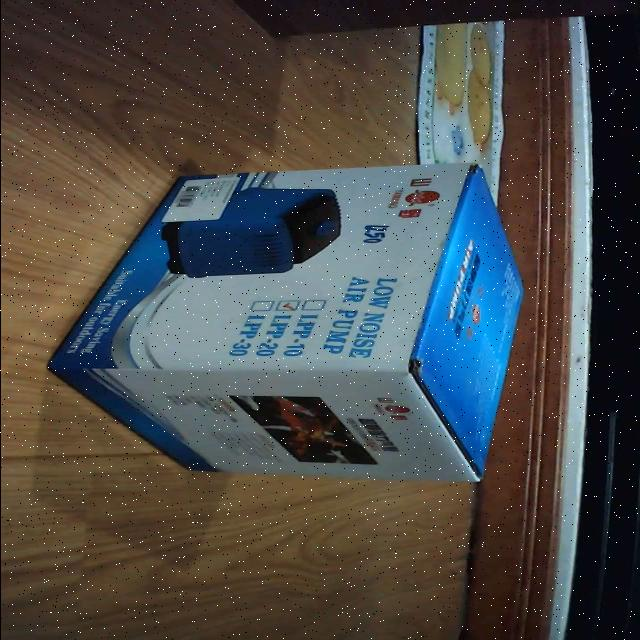YAMANO_LPP_20: (21, 152, 530, 492)
